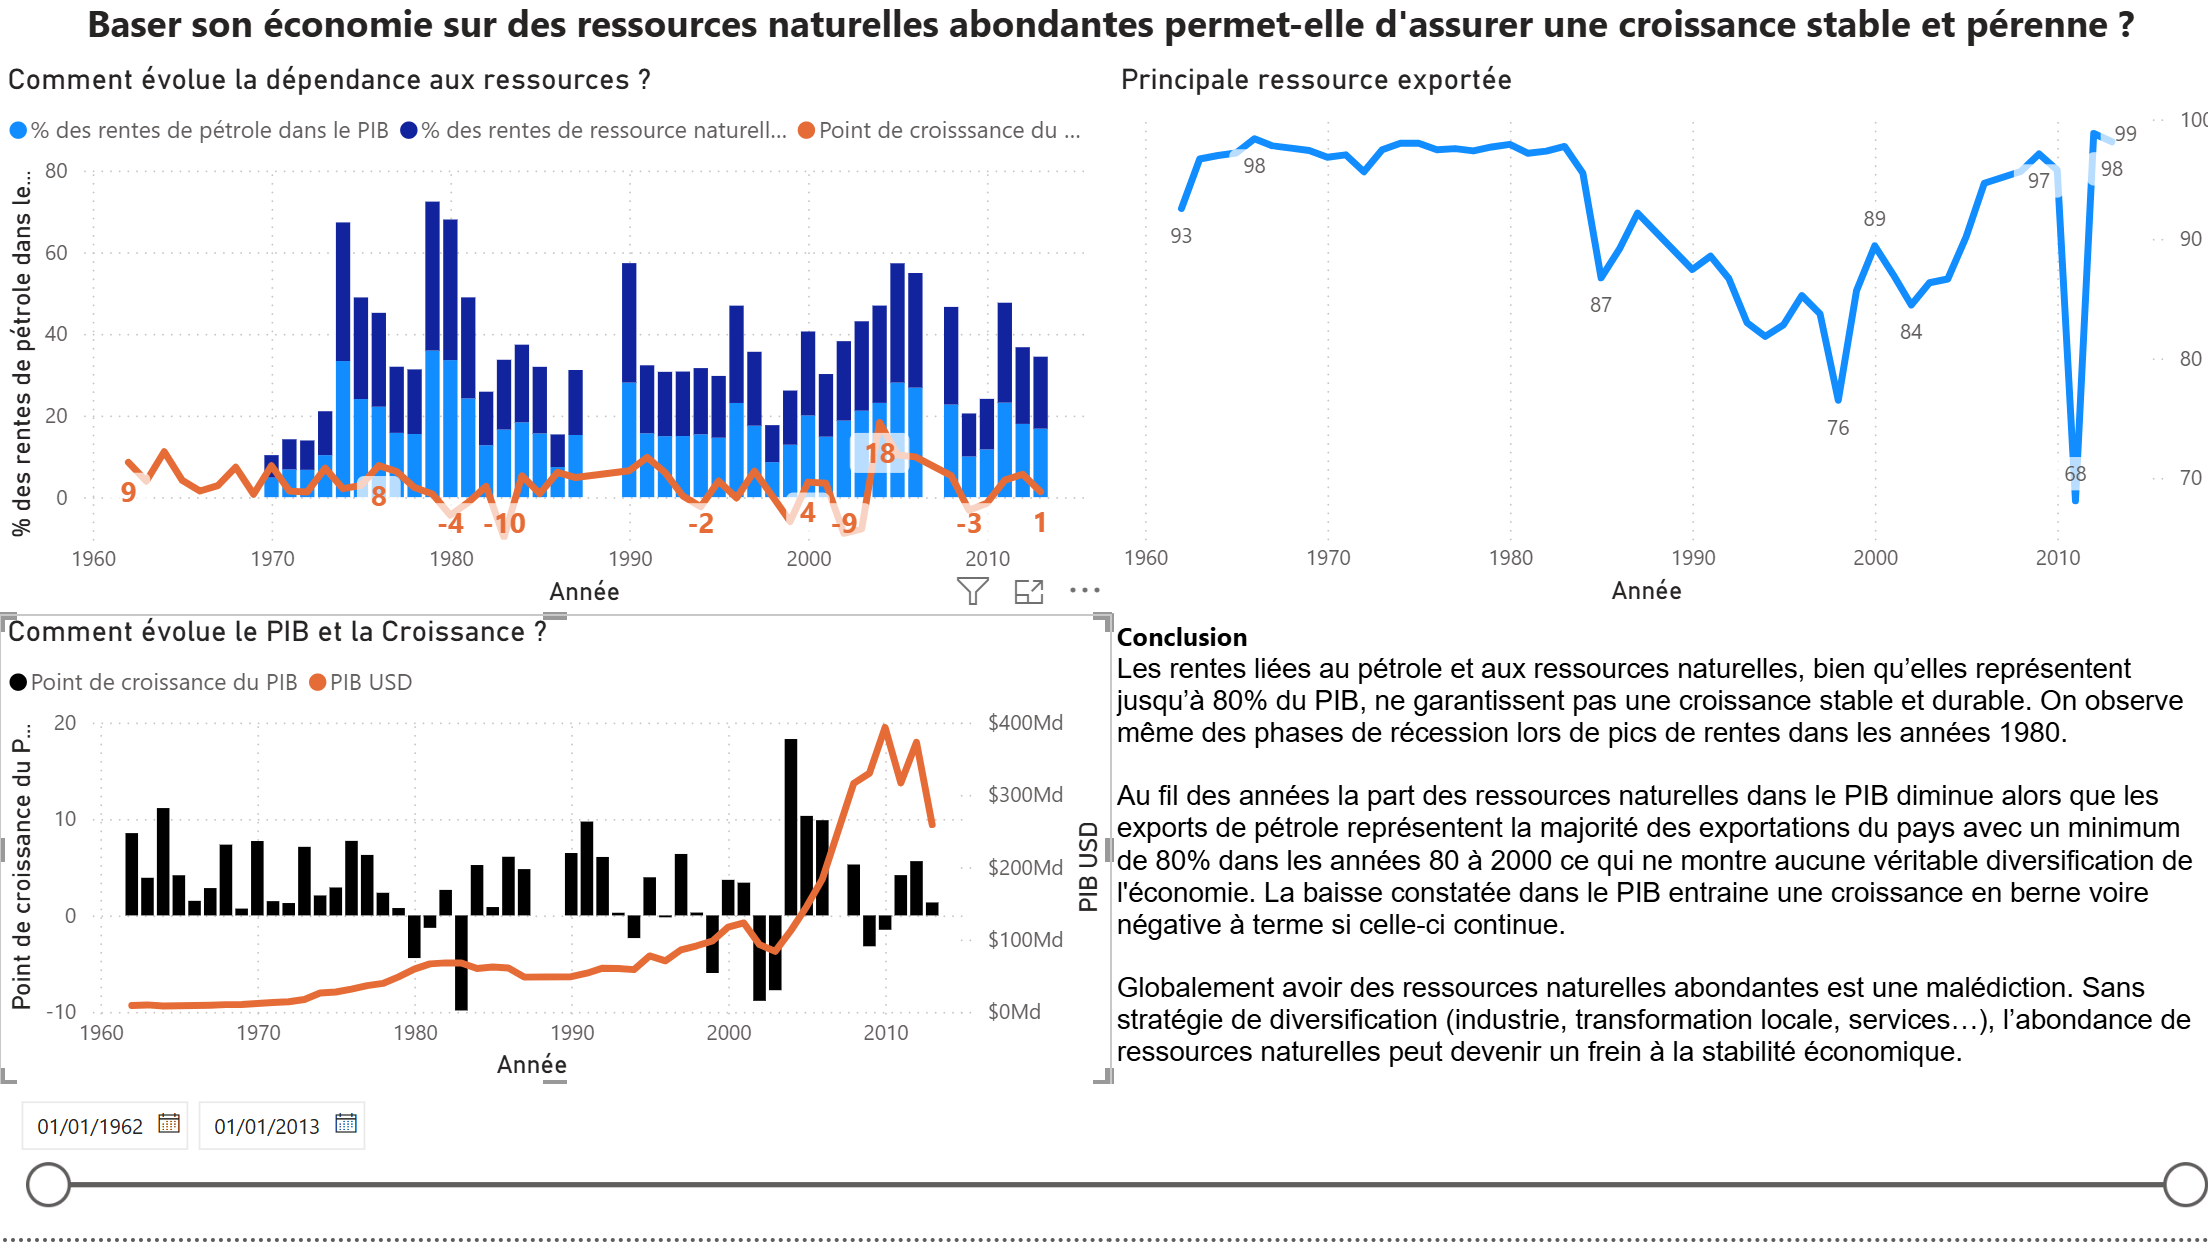

What the dashboard file says about the page in this screenshot:
{"tool":"powerbi","page":{"name":"Doublon de Le pétrole enrichit il vraiment l'économie ?","canvas":[1280,720],"ordinal":0},"visuals":[{"type":"lineStackedColumnComboChart","title":"Comment évolue la dépendance aux ressources ?","fields":{"Category":["venezuela_wdi_indicators.Année.Variation.Hiérarchie de dates.Année"],"Y":["Sum(venezuela_wdi_indicators.%_PIB_Rente_Petrole)","Sum(venezuela_wdi_indicators.% PIB_rente_Ressource_Naturelle)"],"Y2":["Sum(venezuela_wdi_indicators.Croissance_PIB)"]},"box":[0,42.5,640,317.5],"z":0},{"type":"textbox","box":[638.8,358.8,641.2,272.5],"z":1000},{"type":"lineStackedColumnComboChart","title":"Comment évoluent PIB et croissance ?","fields":{"Category":["venezuela_wdi_indicators.Année.Variation.Hiérarchie de dates.Année"],"Y":["Sum(venezuela_wdi_indicators.Croissance_PIB)"],"Y2":["Sum(venezuela_wdi_indicators.PIB_USD)"]},"box":[0,360,640,272.5],"z":2000},{"type":"slicer","fields":{"Values":["venezuela_wdi_indicators.Année"]},"box":[0,631.2,1280,88.8],"z":3001},{"type":"textbox","box":[0,0,1280,42.5],"z":3002},{"type":"lineStackedColumnComboChart","title":"Pincipale ressources exporté","fields":{"Category":["venezuela_wdi_indicators.Année.Variation.Hiérarchie de dates.Année"],"Y2":["Sum(venezuela_wdi_indicators.Courbe_export)"]},"box":[640,42.5,640,317.5],"z":3003}]}

Visuals, with their boxes in screenshot pixels (x1, y1, x2, y2), scaled from the page's 1280x720 canvas onto the 2208x1252 screenshot:
"Comment évolue la dépendance aux ressources ?" lineStackedColumnComboChart: bbox=[0, 74, 1104, 626]
textbox: bbox=[1102, 624, 2207, 1098]
"Comment évoluent PIB et croissance ?" lineStackedColumnComboChart: bbox=[0, 626, 1104, 1100]
slicer - venezuela_wdi_indicators.Année: bbox=[0, 1098, 2207, 1251]
textbox: bbox=[0, 0, 2207, 74]
"Pincipale ressources exporté" lineStackedColumnComboChart: bbox=[1104, 74, 2207, 626]
